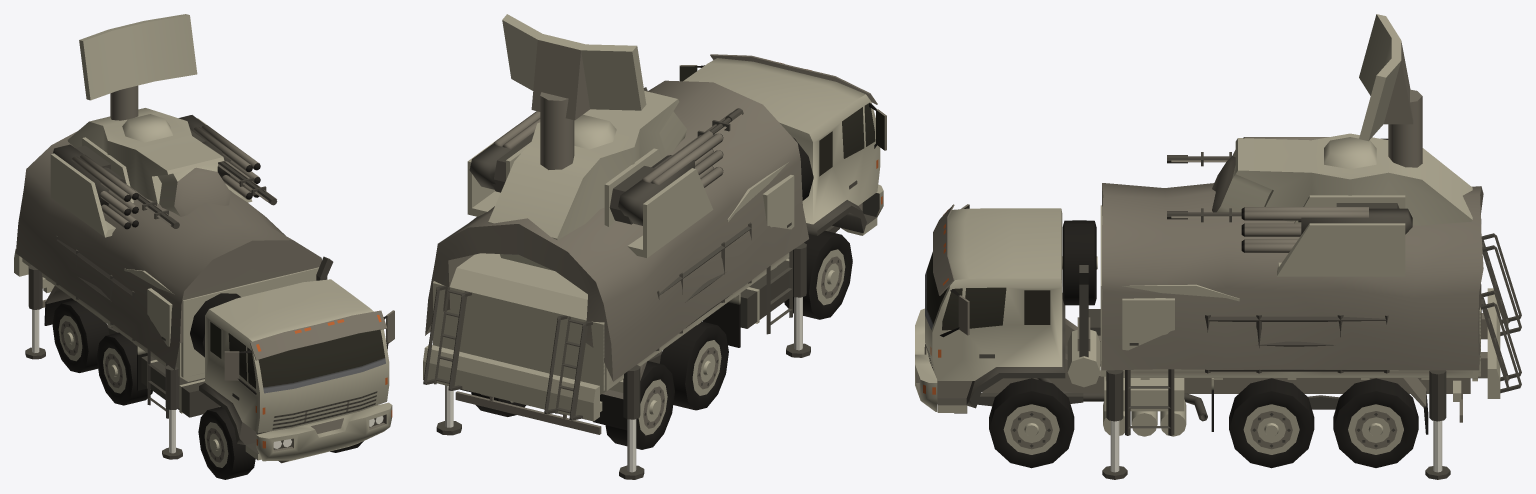
Rendered from Truck.fbx.
3 views of the same model, side by side, from view 1: azimuth 30°, elevation 25°; view 2: azimuth 150°, elevation 25°; view 3: azimuth 270°, elevation 25° (orthographic). The views are drawn at different scales.
Visible parts, largest first — view 1: Truck, Cargo Roof, Ant-air Turret, Radar, Anti-air, Missile Launcher, WR 03, WR 01, WR 02, machine Gun, Cargo, Spire wheel; view 2: Cargo Roof, Anti-air, Truck, Ant-air Turret, Radar, Missile Launcher, WR 02, WR 01, WR 03, Cargo, machine Gun, Spire wheel; view 3: Cargo Roof, Truck, Ant-air Turret, Anti-air, Radar, WL 01, WL 03, WL 02, Missile Launcher, Cargo, Spire wheel, machine Gun.
Boxes of the visible parts, x1=… form: Truck: x1=42, y1=256, x2=394, y2=463; Cargo Roof: x1=16, y1=131, x2=321, y2=369; Ant-air Turret: x1=50, y1=108, x2=252, y2=237; Radar: x1=79, y1=14, x2=197, y2=120; Anti-air: x1=14, y1=236, x2=318, y2=459; Missile Launcher: x1=52, y1=115, x2=260, y2=229; WR 03: x1=52, y1=300, x2=109, y2=372; WR 01: x1=198, y1=407, x2=255, y2=479; WR 02: x1=96, y1=332, x2=152, y2=405; machine Gun: x1=75, y1=129, x2=277, y2=228; Cargo: x1=22, y1=258, x2=204, y2=390; Spire wheel: x1=190, y1=293, x2=240, y2=357; Cargo Roof: x1=425, y1=80, x2=808, y2=381; Anti-air: x1=423, y1=162, x2=810, y2=479; Truck: x1=455, y1=54, x2=886, y2=434; Ant-air Turret: x1=467, y1=91, x2=713, y2=270; Radar: x1=502, y1=14, x2=646, y2=169; Missile Launcher: x1=469, y1=111, x2=723, y2=225; WR 02: x1=660, y1=321, x2=728, y2=410; WR 01: x1=784, y1=230, x2=852, y2=319; WR 03: x1=605, y1=361, x2=674, y2=449; Cargo: x1=460, y1=253, x2=789, y2=430; machine Gun: x1=492, y1=108, x2=743, y2=224; Spire wheel: x1=793, y1=137, x2=813, y2=200; Cargo Roof: x1=1101, y1=183, x2=1483, y2=370; Truck: x1=915, y1=204, x2=1470, y2=436; Ant-air Turret: x1=1212, y1=133, x2=1472, y2=276; Anti-air: x1=1100, y1=205, x2=1521, y2=479; Radar: x1=1359, y1=14, x2=1422, y2=167; WL 01: x1=989, y1=378, x2=1074, y2=468; WL 03: x1=1333, y1=378, x2=1418, y2=467; WL 02: x1=1229, y1=378, x2=1314, y2=468; Missile Launcher: x1=1241, y1=137, x2=1412, y2=252; Cargo: x1=1105, y1=369, x2=1477, y2=434; Spire wheel: x1=1062, y1=220, x2=1097, y2=305; machine Gun: x1=1167, y1=152, x2=1399, y2=222.
Size of the model in its own units: 3.16 by 5.82 by 8.27.
2 materials, 2 textured.
